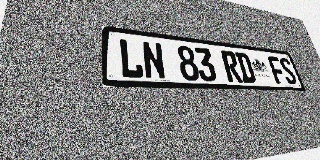3: (194, 47, 217, 81)
8: (176, 45, 200, 81)
D: (235, 52, 257, 83)
F: (267, 56, 288, 84)
L: (118, 38, 144, 79)
N: (141, 41, 166, 80)
R: (220, 50, 243, 82)
S: (278, 57, 298, 84)
